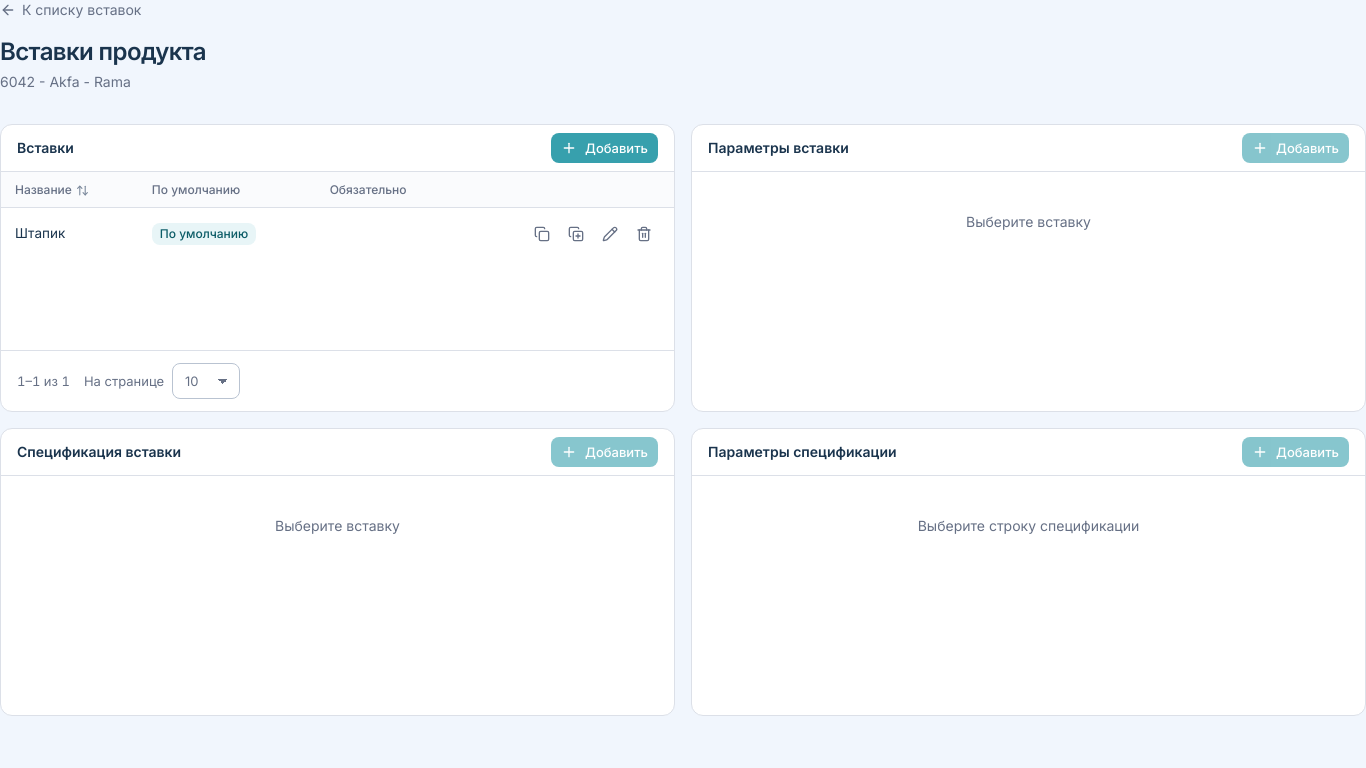
Scenario: A product’s inserts page › shows why a copy into another product failed, in the dialog
Click the button named "Скопировать в другой продукт": (576, 234) [560,218,592,250]
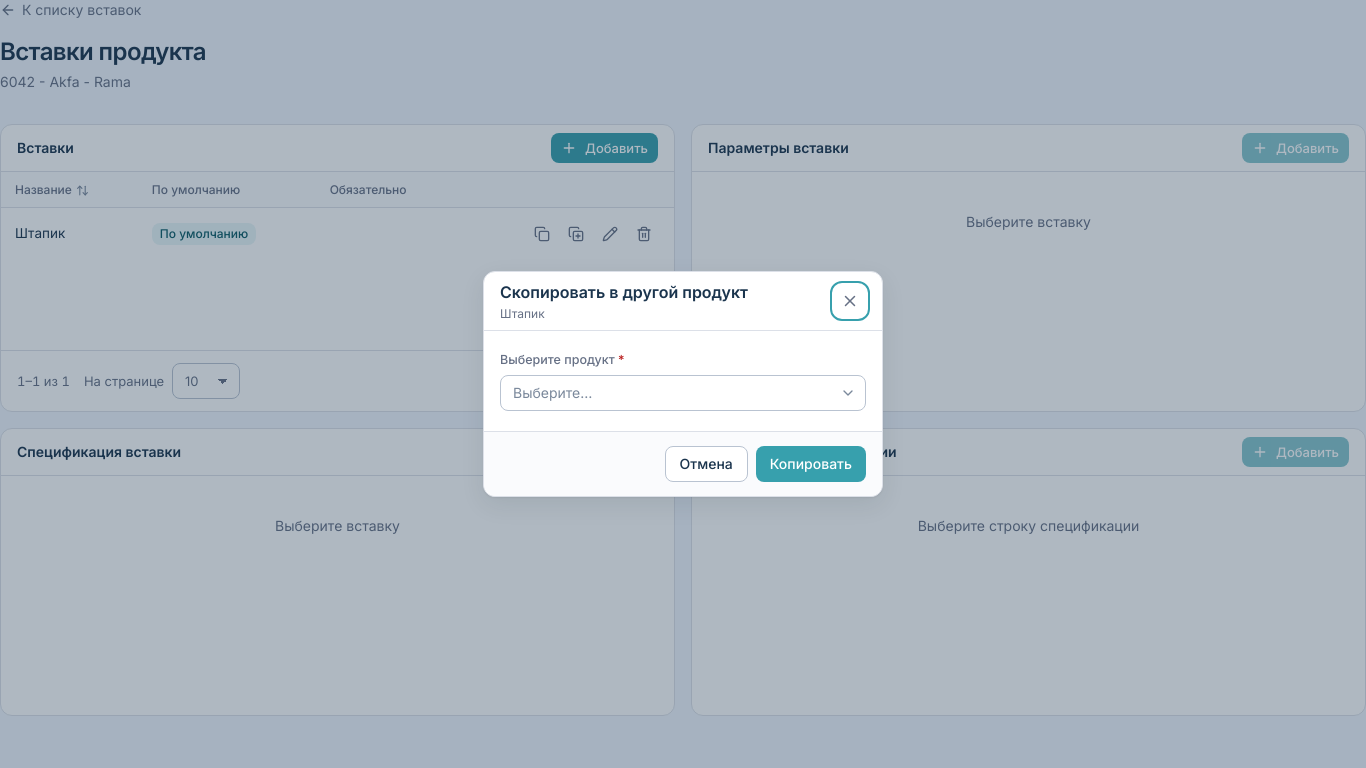
Click the dropdown labelled "Выберите продукт *": (683, 393) [500,375,866,411]
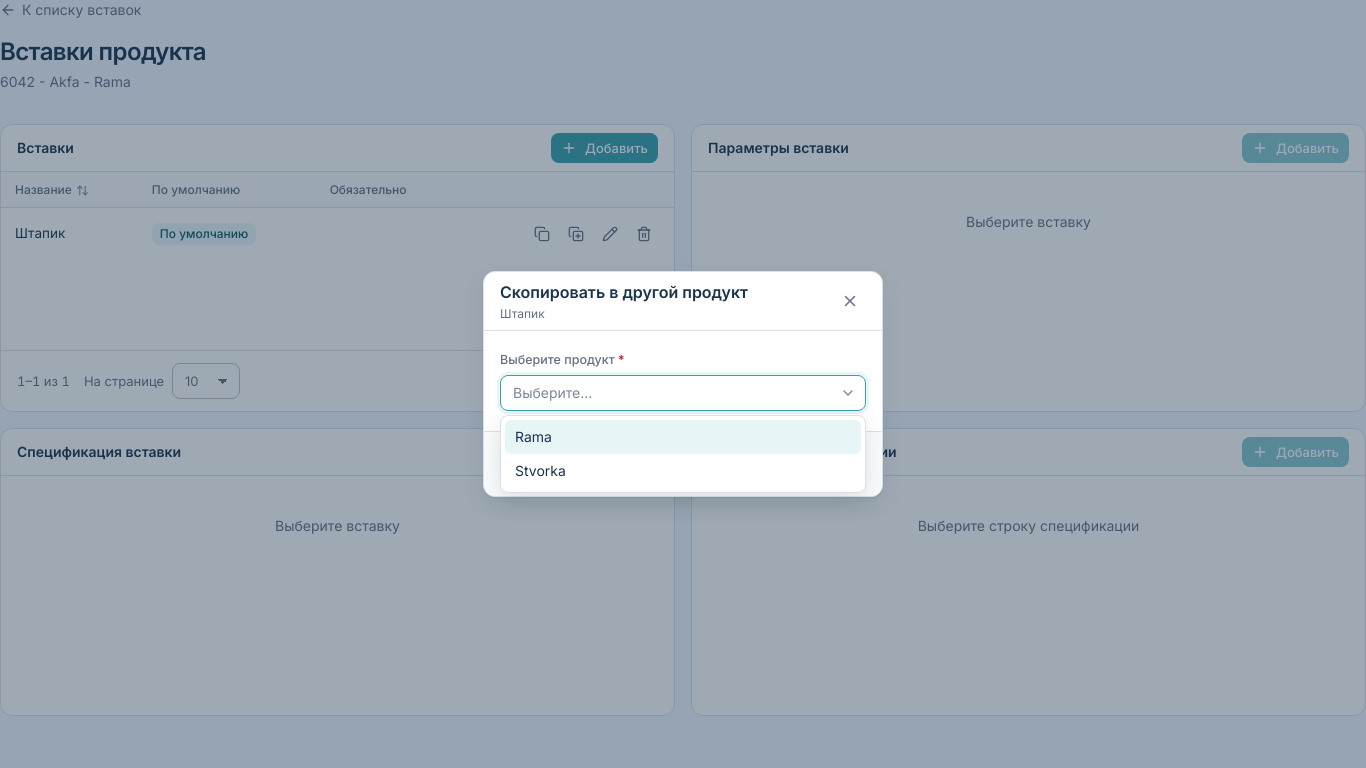
Click the option "Rama": (533, 436) [505,420,861,454]
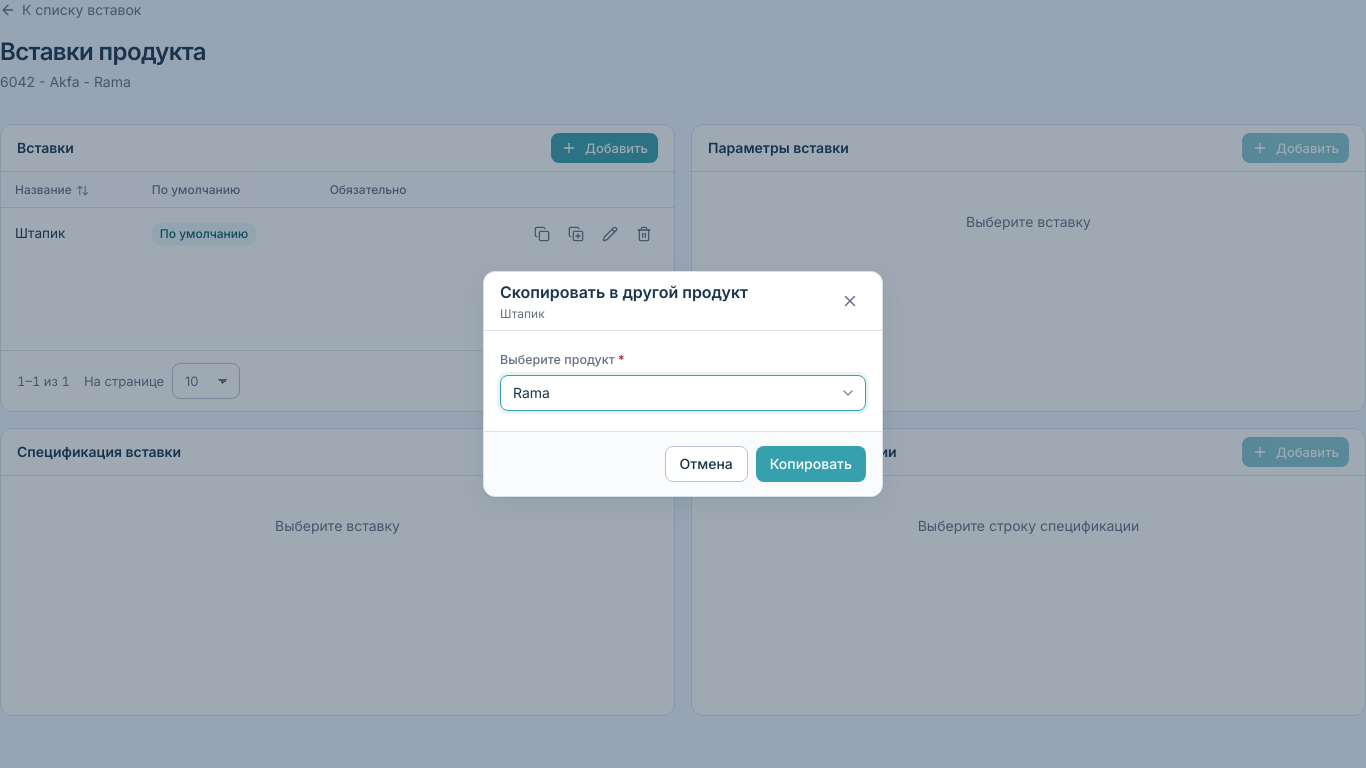
Click the button "Копировать": (811, 464) [756,446,866,482]
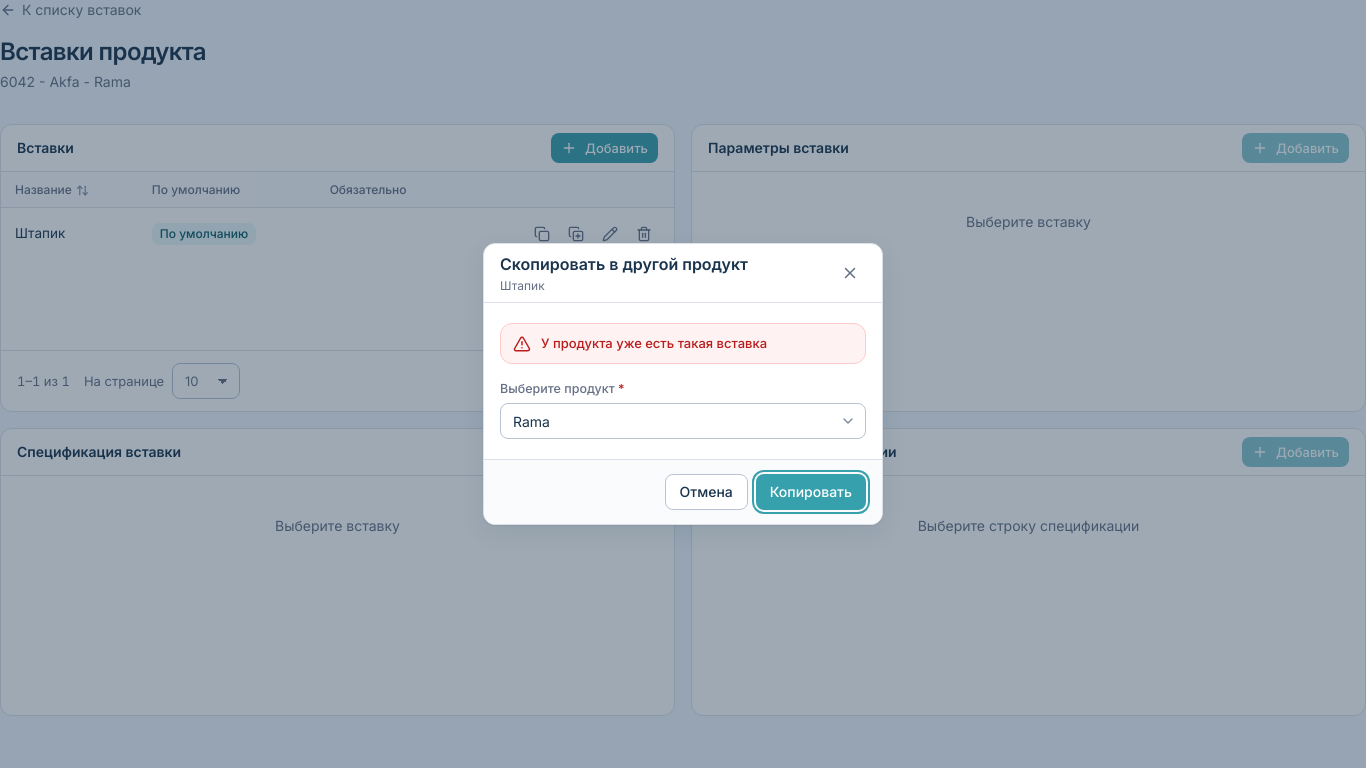
expect the message reads "У продукта уже есть такая вставка": met, box [541,335,767,351]
